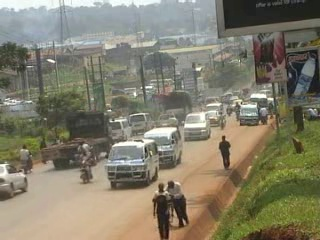Car: (1, 159, 32, 198), (181, 110, 211, 142), (202, 107, 222, 125), (228, 100, 243, 111)
Motorcycle: (75, 142, 100, 166), (78, 156, 95, 186), (18, 145, 35, 174), (166, 115, 182, 133), (218, 109, 228, 131), (231, 101, 242, 119), (223, 101, 232, 119)
